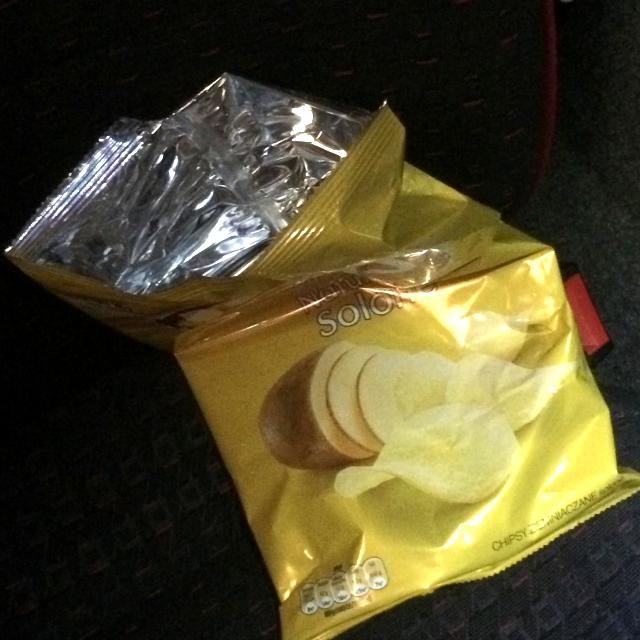Trash: (5, 74, 640, 640)
